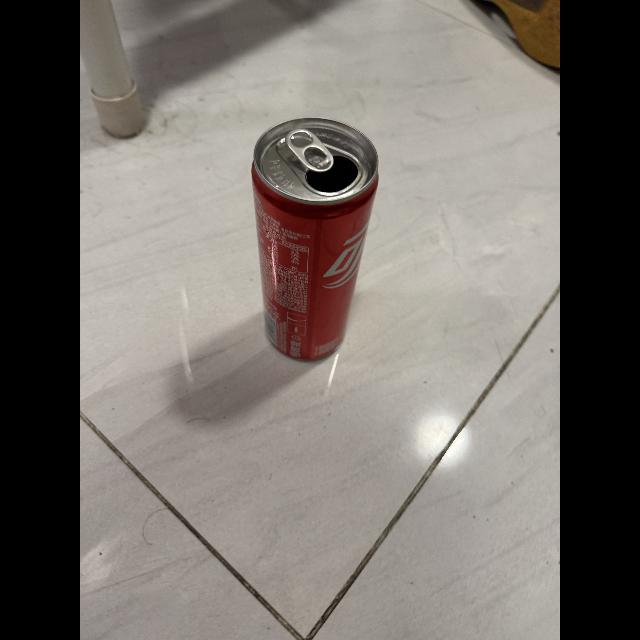Cola: (244, 110, 392, 372)
